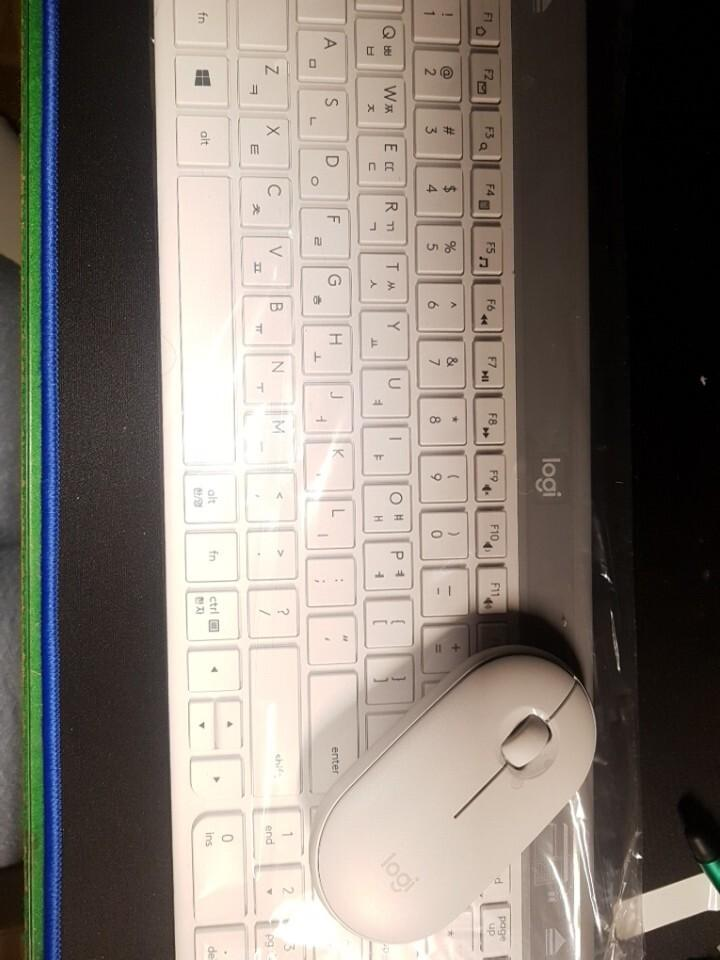keyboard: (152, 0, 596, 959)
mouse: (307, 643, 598, 944)
